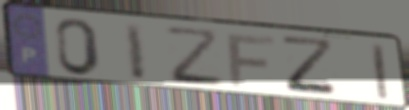0: (53, 17, 102, 78)
F: (225, 33, 278, 89)
I: (122, 21, 149, 82), (370, 42, 391, 103)
Z: (278, 34, 342, 99), (161, 26, 227, 89)
